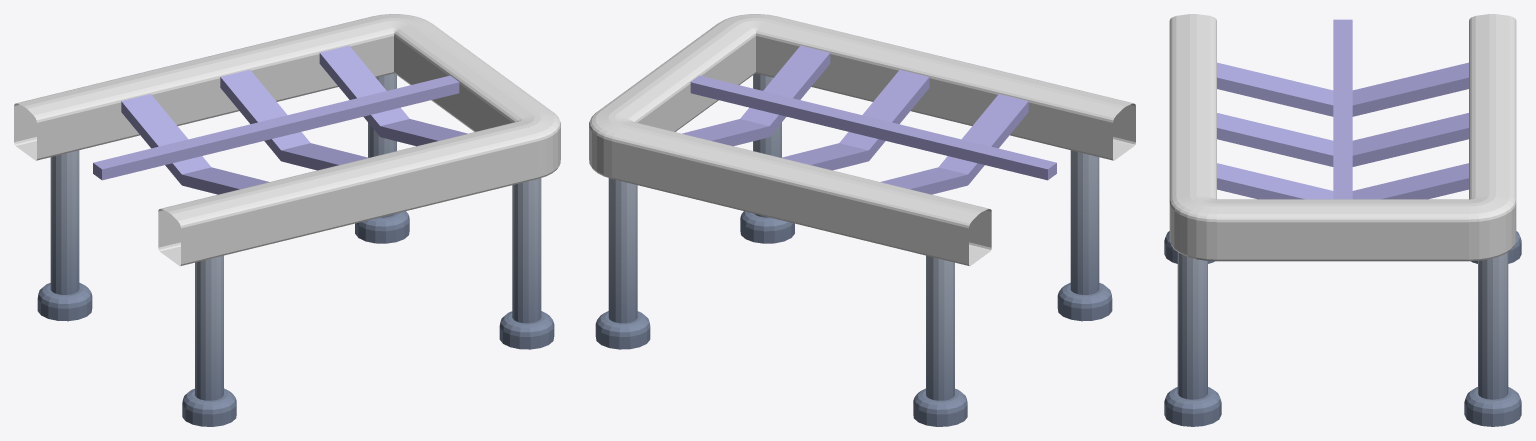
The model's file is New_Rail_LineHead.fbx.
The picture shows the model from 3 angles, left to right: view 1: azimuth 30°, elevation 25°; view 2: azimuth 150°, elevation 25°; view 3: azimuth 270°, elevation 25°; orthographic projection. The views are drawn at different scales.
Parts seen in each view (by area): view 1: New_Rail_LineHead; view 2: New_Rail_LineHead; view 3: New_Rail_LineHead.
Boxes of the visible parts, x1=… form: New_Rail_LineHead: x1=14, y1=14, x2=560, y2=426; New_Rail_LineHead: x1=589, y1=14, x2=1135, y2=426; New_Rail_LineHead: x1=1164, y1=14, x2=1521, y2=426.
Bounding box in the file's own units: 100 × 51 × 75.12.
